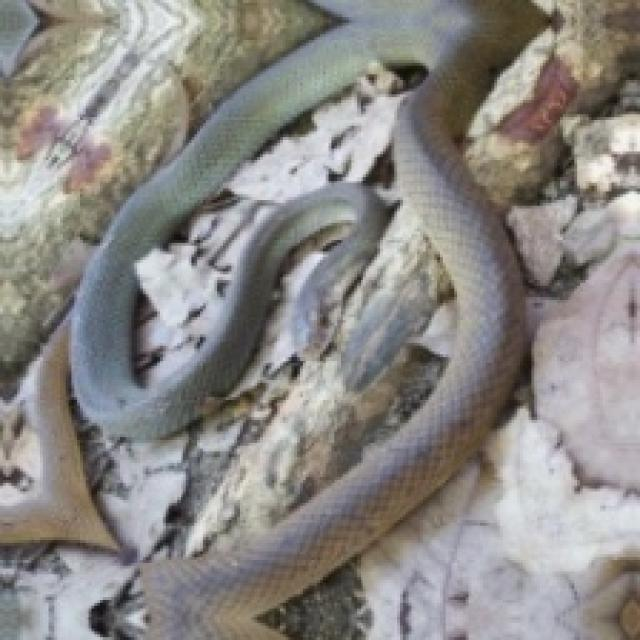reddish rat snake: (71, 0, 543, 637)
